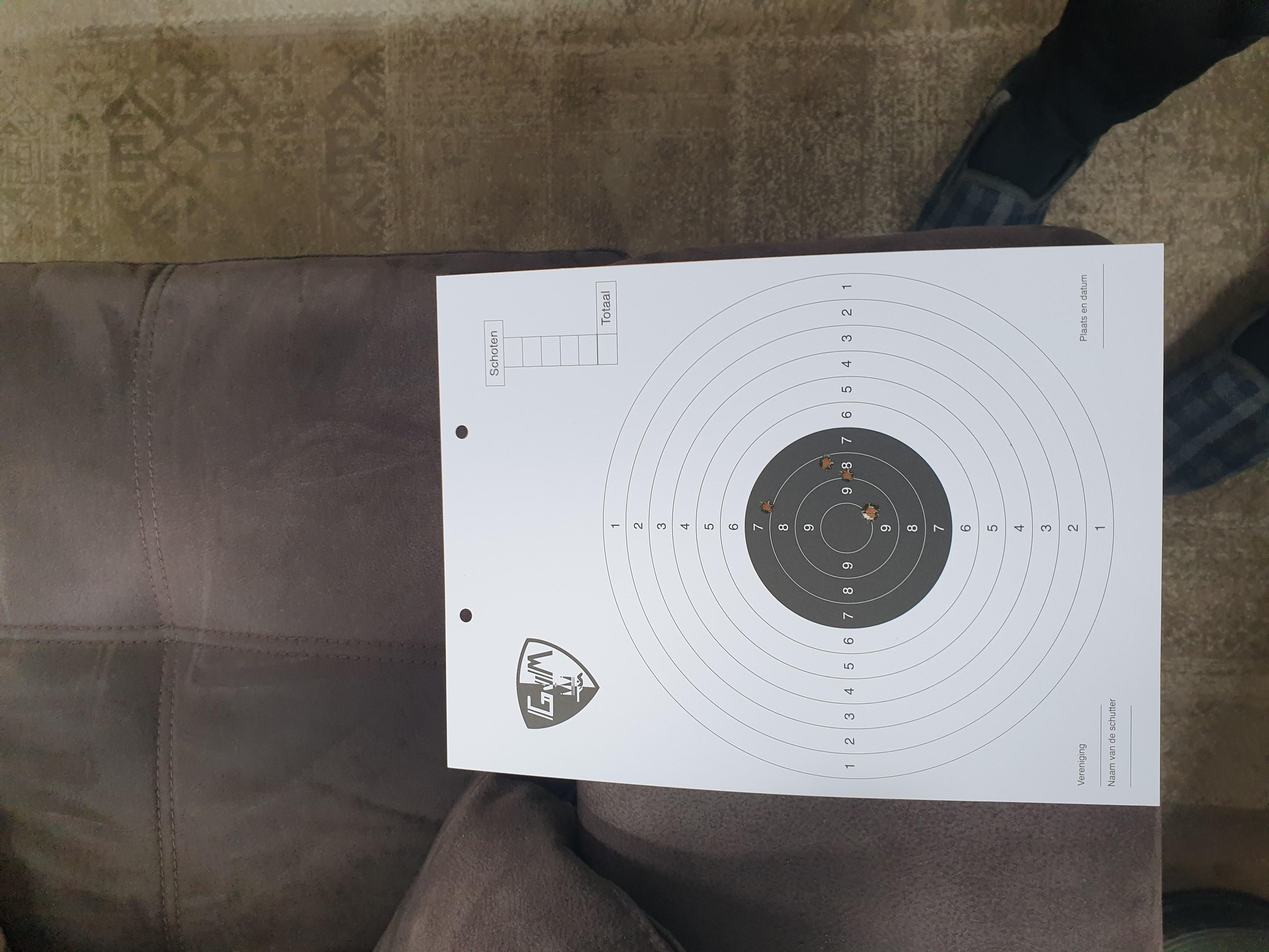hole: (860, 501, 880, 524), (818, 453, 835, 472), (759, 499, 775, 514), (839, 469, 856, 482)
